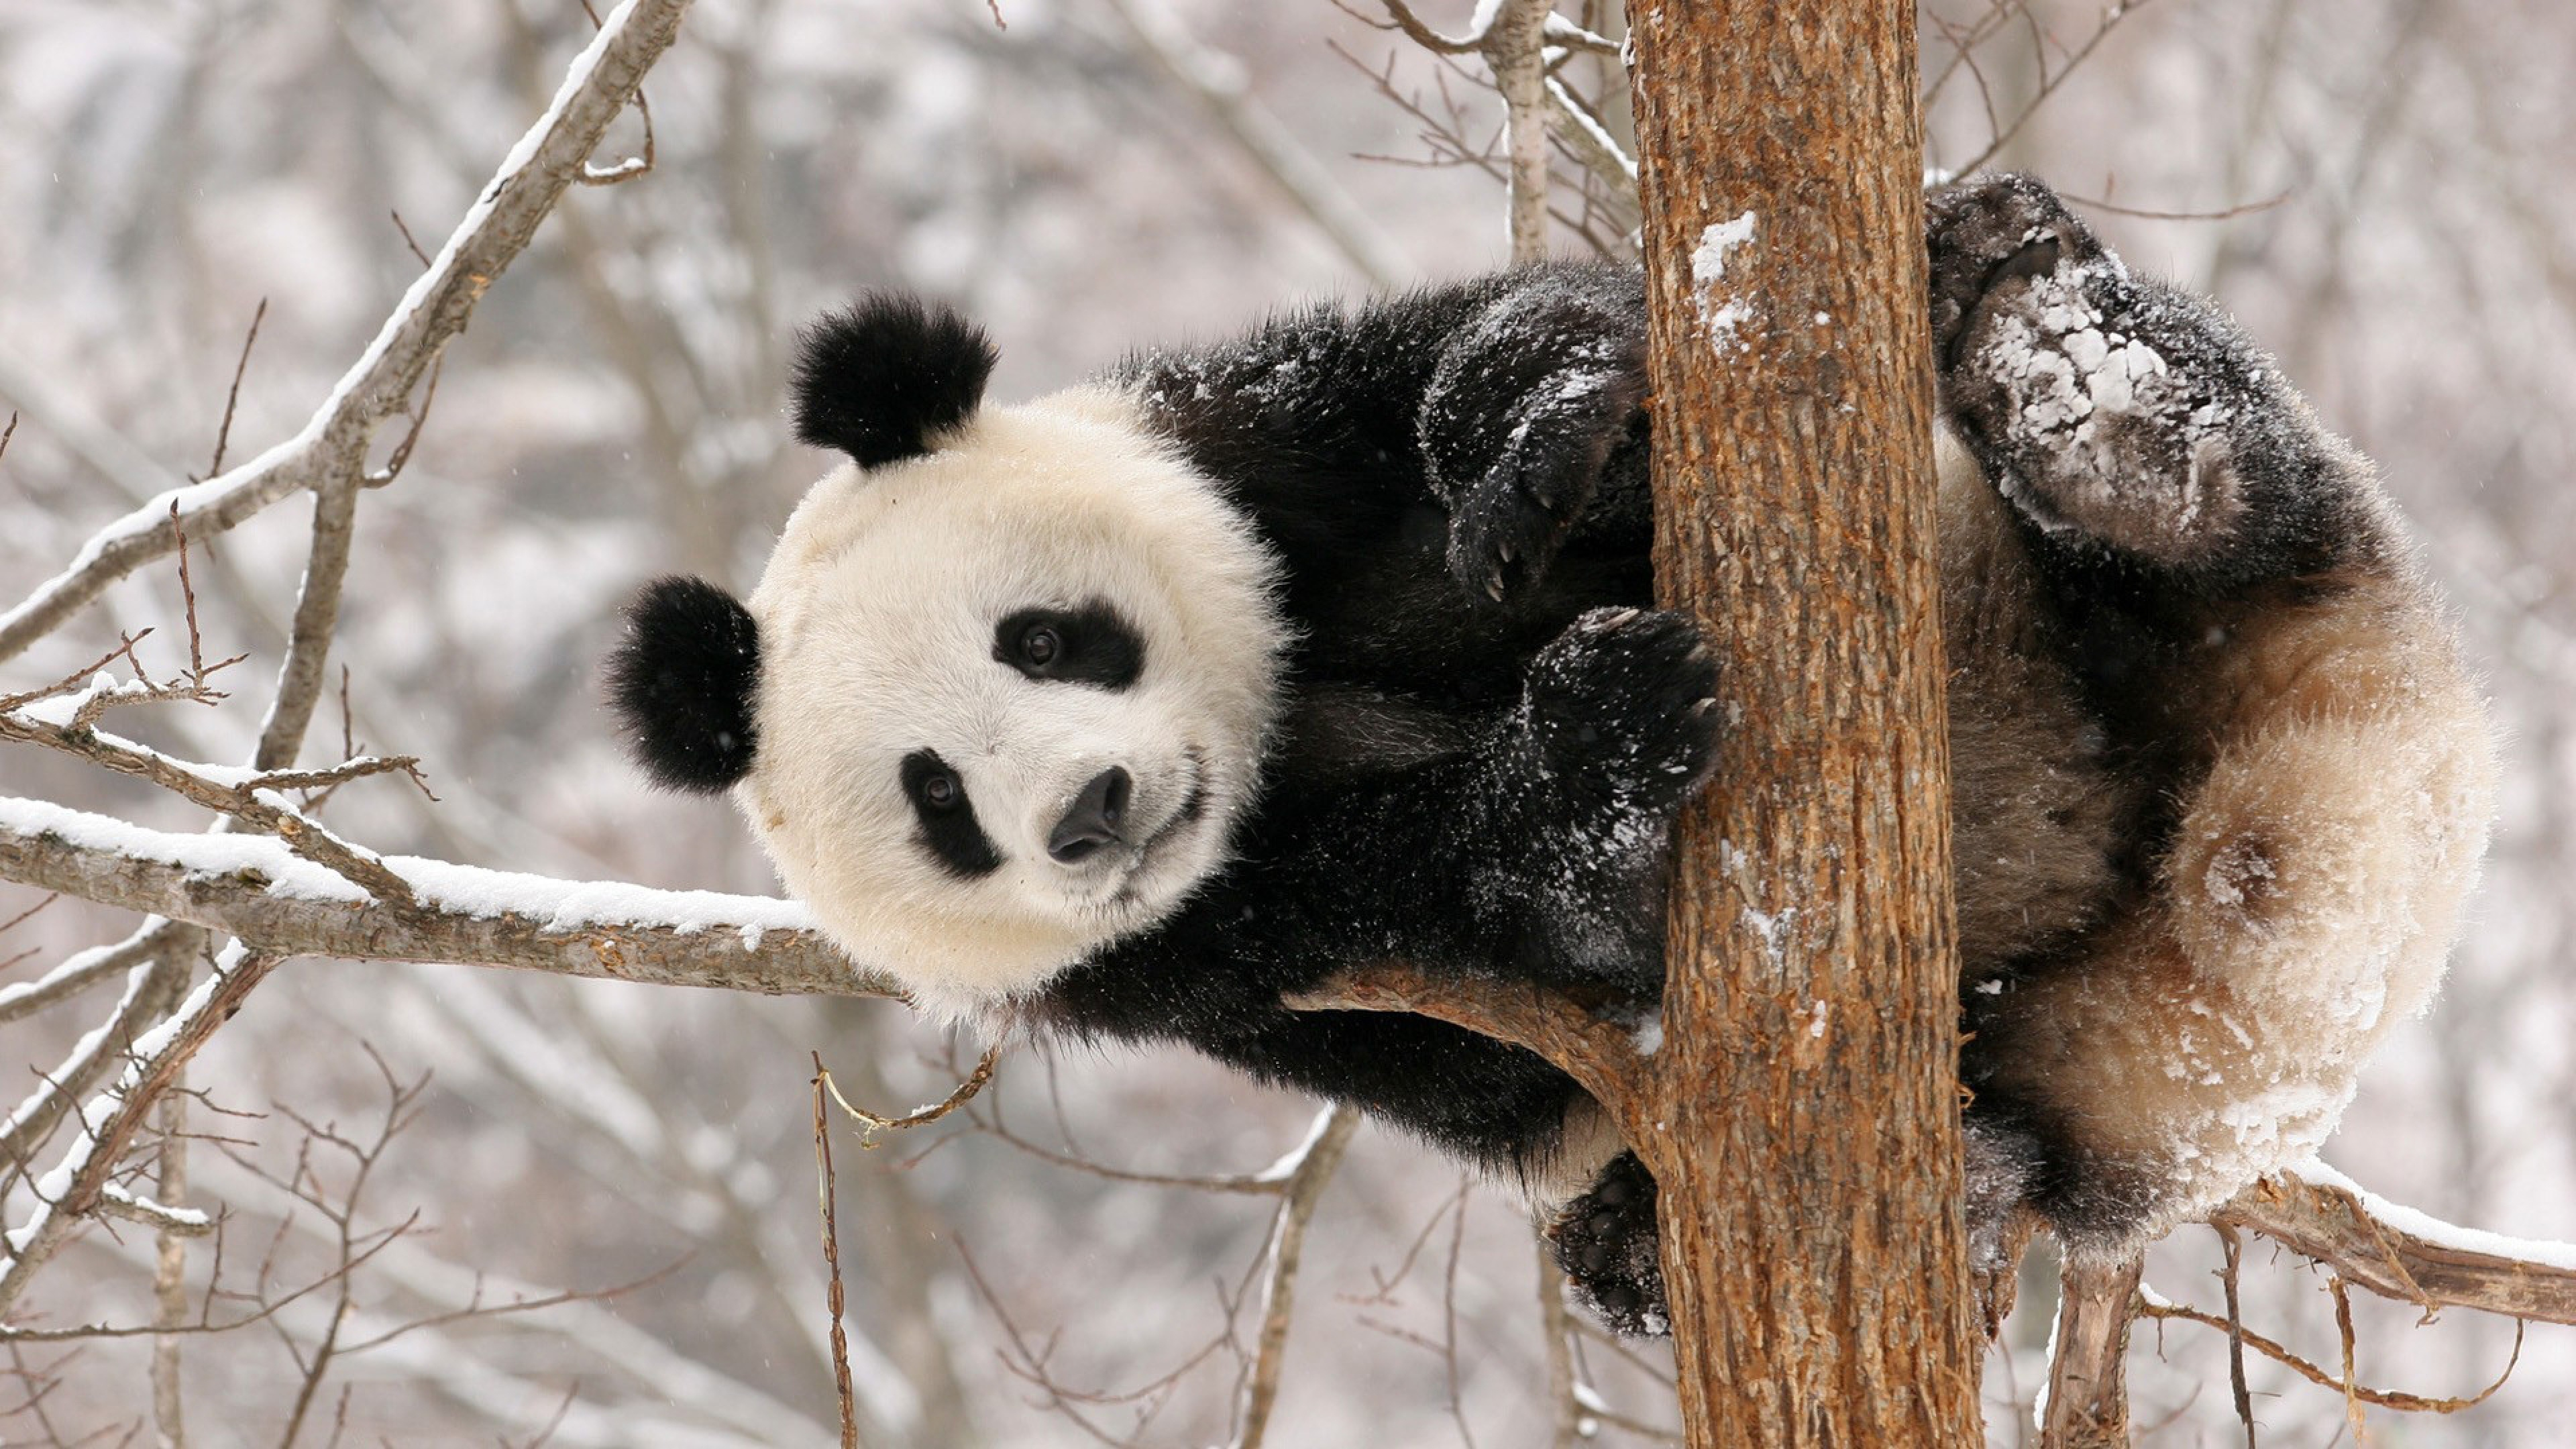panda: (527, 168, 2484, 1297)
